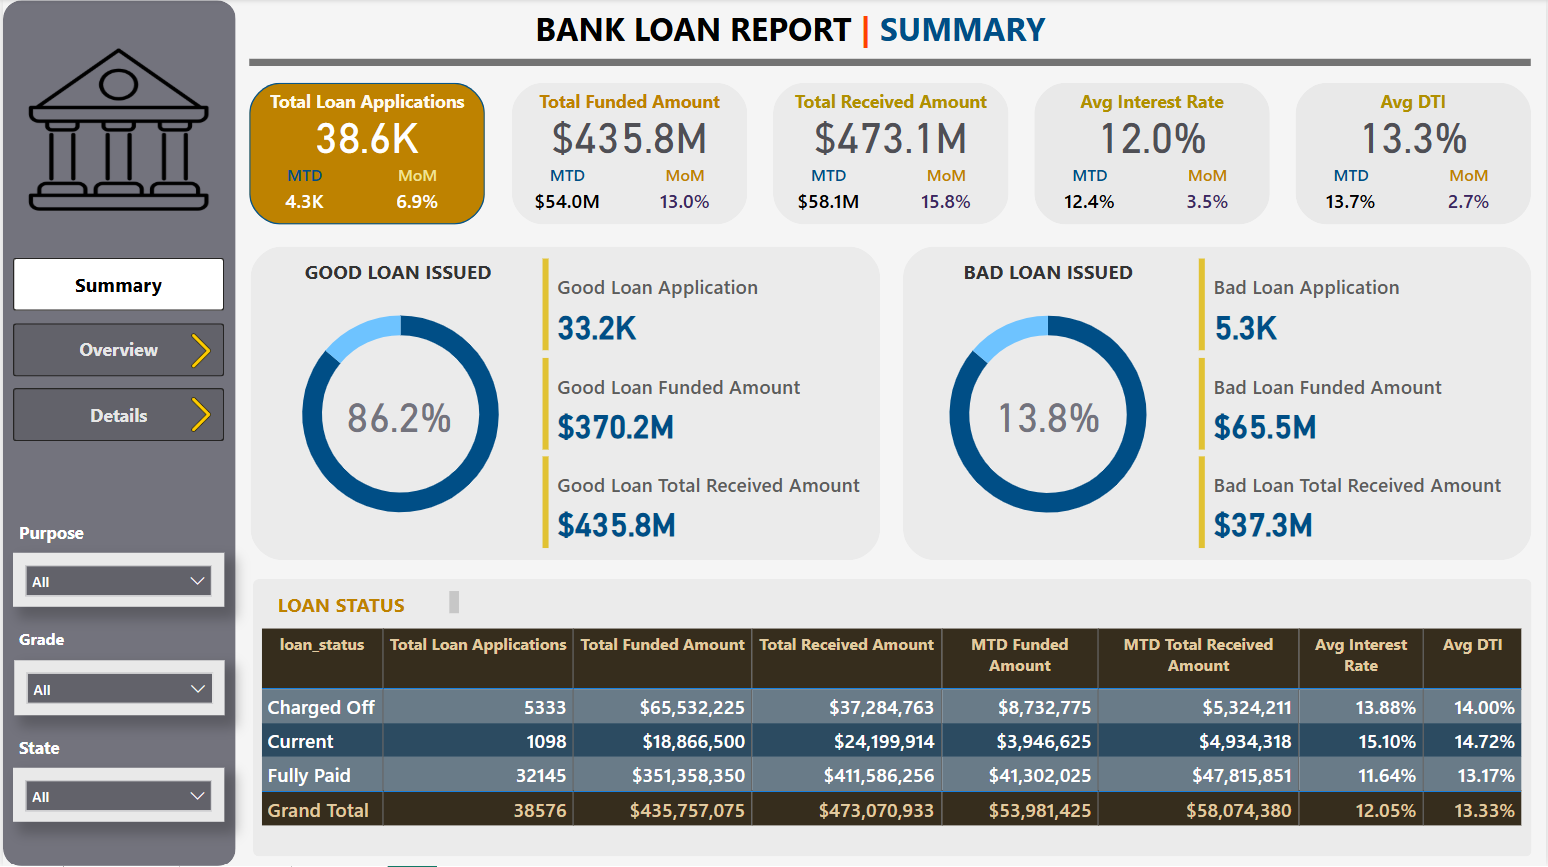

The page's visual inventory and layout, read from the dashboard file:
{"tool":"powerbi","page":{"name":"Summary","canvas":[1280,720],"ordinal":0},"visuals":[{"type":"shape","box":[207.5,481.2,1060,230],"z":0},{"type":"shape","box":[193,0,1087.2,54.7],"z":1000},{"type":"shape","box":[204.7,204.7,522,260],"z":2000},{"type":"shape","box":[0,1.2,193,718.6],"z":3000},{"type":"shape","box":[421.5,69.4,195.3,117.4],"z":3000,"group":"g3"},{"type":"shape","box":[638.2,69.4,195.3,117.4],"z":3000,"group":"g4"},{"type":"shape","box":[855,69.4,195.3,117.4],"z":3000,"group":"g5"},{"type":"shape","box":[1071.8,69.4,195.3,117.4],"z":3000,"group":"g6"},{"type":"shape","box":[204.7,69.8,195.3,117.4],"z":3000,"group":"g2"},{"type":"textbox","box":[436.5,1.2,495.3,54.1],"z":4000},{"type":"card","fields":{"Values":["_Measures.Total Funded Amount-"]},"box":[421.5,88,195.3,48.8],"z":4000,"group":"g3"},{"type":"card","fields":{"Values":["_Measures.Total Received Amount"]},"box":[638.2,88,195.3,48.8],"z":4000,"group":"g4"},{"type":"card","fields":{"Values":["_Measures.Avg Interest Rate_"]},"box":[855,88,195.3,48.8],"z":4000,"group":"g5"},{"type":"card","fields":{"Values":["_Measures.Avg DTI_"]},"box":[1071.8,88,195.3,48.8],"z":4000,"group":"g6"},{"type":"card","fields":{"Values":["_Measures.Total Loan Applications 0"]},"box":[204.7,88.4,195.3,48.8],"z":4000,"group":"g2"},{"type":"textbox","box":[421.5,69.4,195.3,32.6],"z":5000,"group":"g3"},{"type":"textbox","box":[638.2,69.4,195.3,32.6],"z":5000,"group":"g4"},{"type":"textbox","box":[855,69.4,195.3,32.6],"z":5000,"group":"g5"},{"type":"textbox","box":[1071.8,69.4,195.3,32.6],"z":5000,"group":"g6"},{"type":"textbox","box":[204.7,69.8,195.3,32.6],"z":5000,"group":"g2"},{"type":"donutChart","fields":{"Category":["loan.Good Loon vs Bad Loan"],"Y":["_Measures.Total Loan Applications 0"]},"box":[207.5,237.5,245,213.8],"z":5000},{"type":"group","id":"g1","title":"Group 1","box":[204.7,69.8,195.3,117.4],"z":6000},{"type":"card","title":"MTD","fields":{"Values":["_Measures.MTD Funded Amount-"]},"box":[433.8,137.1,67.4,43],"z":6000,"group":"g3"},{"type":"card","title":"MTD","fields":{"Values":["_Measures.MTD Total Received Amount-"]},"box":[650.5,137.1,67.4,43],"z":6000,"group":"g4"},{"type":"card","title":"MTD","fields":{"Values":["_Measures.MTD Avg Int Rate-"]},"box":[867.3,137.1,67.4,43],"z":6000,"group":"g5"},{"type":"card","title":"MTD","fields":{"Values":["_Measures.MTD Avg DTI-"]},"box":[1084.1,137.1,67.4,43],"z":6000,"group":"g6"},{"type":"card","title":"MTD","fields":{"Values":["_Measures.MTD Loan Applications-"]},"box":[217.5,137.2,67,43],"z":6000,"group":"g2"},{"type":"card","title":"MoM","fields":{"Values":["_Measures.MoM Total Funded Amount-"]},"box":[529.4,137.1,72.1,43],"z":7000,"group":"g3"},{"type":"card","title":"MoM","fields":{"Values":["_Measures.MoM Total Received Amount-"]},"box":[746.1,137.1,72.1,43],"z":7000,"group":"g4"},{"type":"card","title":"MoM","fields":{"Values":["_Measures.MoM Avg Int rate_"]},"box":[962.9,137.1,72.1,43],"z":7000,"group":"g5"},{"type":"card","title":"MoM","fields":{"Values":["_Measures.MoM Avg DTI_"]},"box":[1179.7,137.1,72.1,43],"z":7000,"group":"g6"},{"type":"card","title":"MoM","fields":{"Values":["_Measures.MoM Loan Applications_"]},"box":[309.8,137.5,69.8,43],"z":7000,"group":"g2"},{"type":"textbox","box":[217.6,209.4,220,31.8],"z":7000},{"type":"group","id":"g2","title":"Group 2","box":[204.7,69.8,195.3,117.4],"z":7002,"group":"g1"},{"type":"group","id":"g3","title":"Group 2","box":[421.5,69.4,195.3,117.6],"z":8000},{"type":"card","fields":{"Values":["_Measures.Good Loan %"]},"box":[265.9,320,124.7,48.2],"z":9000},{"type":"group","id":"g4","title":"Group 2","box":[638.2,69.4,195.3,117.6],"z":10000},{"type":"group","id":"g5","title":"Group 2","box":[855,69.4,195.3,117.6],"z":11000},{"type":"group","id":"g6","title":"Group 2","box":[1071.8,69.4,195.3,117.6],"z":12000},{"type":"shape","box":[745.9,204.7,521.2,260],"z":13000},{"type":"cardVisual","fields":{"Data":["_Measures.Good Loan Application_","_Measures.Good Loan Funded Amount_","_Measures.Good Loan Total Received Amount_"]},"box":[442.5,210,285,251.2],"z":14000},{"type":"textbox","box":[756.5,209.4,220,31.8],"z":15000},{"type":"donutChart","fields":{"Category":["loan.Good Loon vs Bad Loan"],"Y":["_Measures.Total Loan Applications 0"]},"box":[756.5,237.6,220,214.1],"z":16000},{"type":"card","fields":{"Values":["_Measures.Bad Loan %"]},"box":[802.4,320,128.2,48.2],"z":17000},{"type":"cardVisual","fields":{"Data":["_Measures.Bad Loan Application_","_Measures.Bad Loan Funded Amount_","_Measures.Bad Loan Total Received Amount_"]},"box":[986.2,210,280,251.2],"z":18000},{"type":"tableEx","fields":{"Values":["loan.loan_status","_Measures.Total Loan Applications 0","_Measures.Total Funded Amount-","_Measures.Total Received Amount-","_Measures.MTD Funded Amount-","_Measures.MTD Total Received Amount-","_Measures.Avg Interest Rate_","_Measures.Avg DTI_"]},"box":[207.9,516.6,1058.5,185.2],"z":19000},{"type":"textbox","box":[222.5,486.2,160,30],"z":20000},{"type":"slicer","fields":{"Values":["loan.address_state"]},"box":[8.8,637.5,175,45],"z":21000},{"type":"slicer","fields":{"Values":["loan.grade"]},"box":[9.3,547.7,174.4,45.3],"z":22000},{"type":"slicer","fields":{"Values":["loan.purpose"]},"box":[8.8,458.8,175,45],"z":23000},{"type":"textbox","box":[8.8,427.5,120,31.2],"z":24000},{"type":"textbox","box":[8.8,606.2,120,31.2],"z":25000},{"type":"textbox","box":[8.8,516.2,120,31.2],"z":26000},{"type":"pageNavigator","box":[8.8,215,175,153.8],"z":27000},{"type":"image","box":[145,268.8,38.8,46.2],"z":28000},{"type":"image","box":[145,321.2,38.8,46.2],"z":29000},{"type":"image","box":[8.1,36,175.6,144.2],"z":30000},{"type":"shape","box":[204.7,36,1062.8,32.6],"z":31000}]}

Visuals, with their boxes in screenshot pixels (x1, y1, x2, y2), scaled from the page's 1280x720 canvas onto the 1548x867 screenshot:
shape: select_region(251, 579, 1533, 856)
shape: select_region(233, 0, 1547, 66)
shape: select_region(248, 246, 879, 560)
shape: select_region(0, 1, 233, 866)
shape: select_region(510, 84, 746, 225)
shape: select_region(772, 84, 1008, 225)
shape: select_region(1034, 84, 1270, 225)
shape: select_region(1296, 84, 1532, 225)
shape: select_region(248, 84, 484, 225)
textbox: select_region(528, 1, 1127, 67)
card - _Measures.Total Funded Amount-: select_region(510, 106, 746, 165)
card - _Measures.Total Received Amount: select_region(772, 106, 1008, 165)
card - _Measures.Avg Interest Rate_: select_region(1034, 106, 1270, 165)
card - _Measures.Avg DTI_: select_region(1296, 106, 1532, 165)
card - _Measures.Total Loan Applications 0: select_region(248, 106, 484, 165)
textbox: select_region(510, 84, 746, 123)
textbox: select_region(772, 84, 1008, 123)
textbox: select_region(1034, 84, 1270, 123)
textbox: select_region(1296, 84, 1532, 123)
textbox: select_region(248, 84, 484, 123)
donutChart - loan.Good Loon vs Bad Loan x _Measures.Total Loan Applications 0: select_region(251, 286, 547, 543)
"Group 1" group: select_region(248, 84, 484, 225)
"MTD" card: select_region(525, 165, 606, 217)
"MTD" card: select_region(787, 165, 868, 217)
"MTD" card: select_region(1049, 165, 1130, 217)
"MTD" card: select_region(1311, 165, 1393, 217)
"MTD" card: select_region(263, 165, 344, 217)
"MoM" card: select_region(640, 165, 727, 217)
"MoM" card: select_region(902, 165, 990, 217)
"MoM" card: select_region(1165, 165, 1252, 217)
"MoM" card: select_region(1427, 165, 1514, 217)
"MoM" card: select_region(375, 166, 459, 217)
textbox: select_region(263, 252, 529, 290)
"Group 2" group: select_region(248, 84, 484, 225)
"Group 2" group: select_region(510, 84, 746, 225)
card - _Measures.Good Loan %: select_region(322, 385, 472, 443)
"Group 2" group: select_region(772, 84, 1008, 225)
"Group 2" group: select_region(1034, 84, 1270, 225)
"Group 2" group: select_region(1296, 84, 1532, 225)
shape: select_region(902, 246, 1532, 560)
cardVisual - _Measures.Good Loan Application_ x _Measures.Good Loan Funded Amount_: select_region(535, 253, 880, 555)
textbox: select_region(915, 252, 1181, 290)
donutChart - loan.Good Loon vs Bad Loan x _Measures.Total Loan Applications 0: select_region(915, 286, 1181, 544)
card - _Measures.Bad Loan %: select_region(970, 385, 1125, 443)
cardVisual - _Measures.Bad Loan Application_ x _Measures.Bad Loan Funded Amount_: select_region(1193, 253, 1531, 555)
tableEx - loan.loan_status x _Measures.Total Loan Applications 0: select_region(251, 622, 1532, 845)
textbox: select_region(269, 585, 463, 622)
slicer - loan.address_state: select_region(11, 768, 222, 822)
slicer - loan.grade: select_region(11, 660, 222, 714)
slicer - loan.purpose: select_region(11, 552, 222, 607)
textbox: select_region(11, 515, 156, 552)
textbox: select_region(11, 730, 156, 768)
textbox: select_region(11, 622, 156, 659)
pageNavigator: select_region(11, 259, 222, 444)
image: select_region(175, 324, 222, 379)
image: select_region(175, 387, 222, 442)
image: select_region(10, 43, 222, 217)
shape: select_region(248, 43, 1533, 83)
